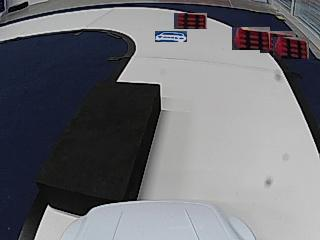block: (36, 82, 161, 199)
